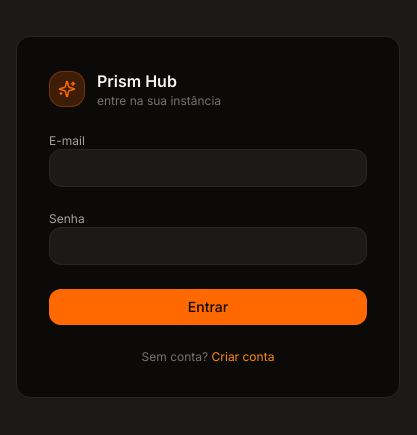
Test case: LoginPage › shows error message on invalid credentials
Type "wrong@prismhub.test" into the field labelled "E-mail".
click(208, 168); type("wrong@prismhub.test")  # box left=49, top=149, right=367, bottom=187
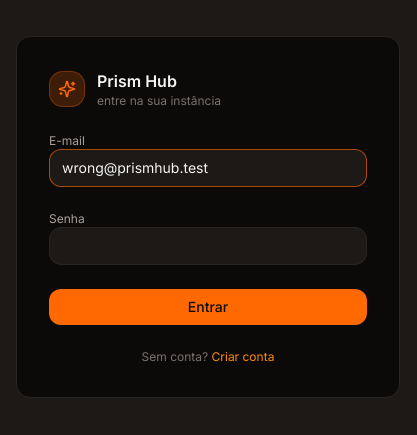
Type "wrong" into the password field labelled "Senha".
click(208, 246); type("wrong")  # box left=49, top=227, right=367, bottom=265
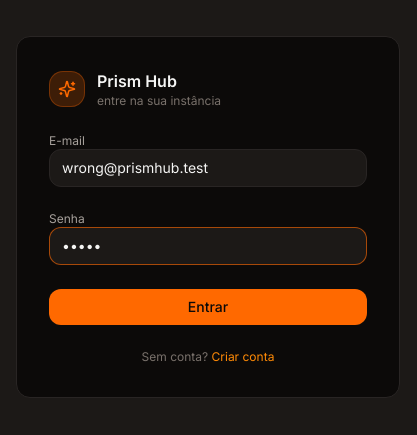
Click the button "Entrar".
click(208, 307)  # box left=49, top=289, right=367, bottom=325
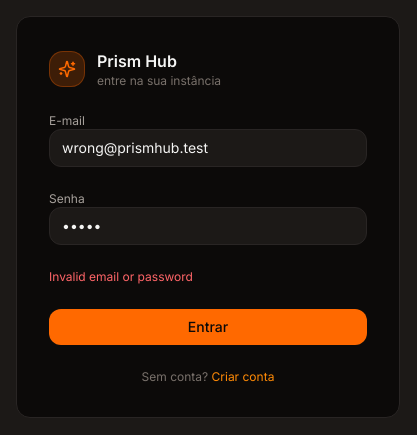
Check: the message shows "Invalid", box left=49, top=269, right=193, bottom=284
